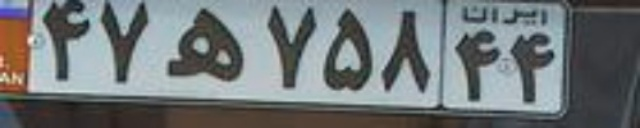4: (40, 1, 90, 81), (508, 31, 555, 104), (452, 29, 499, 101)
5: (320, 8, 377, 90)
7: (96, 0, 153, 83), (264, 3, 319, 89)
8: (378, 9, 434, 91)
he: (161, 6, 247, 80)
